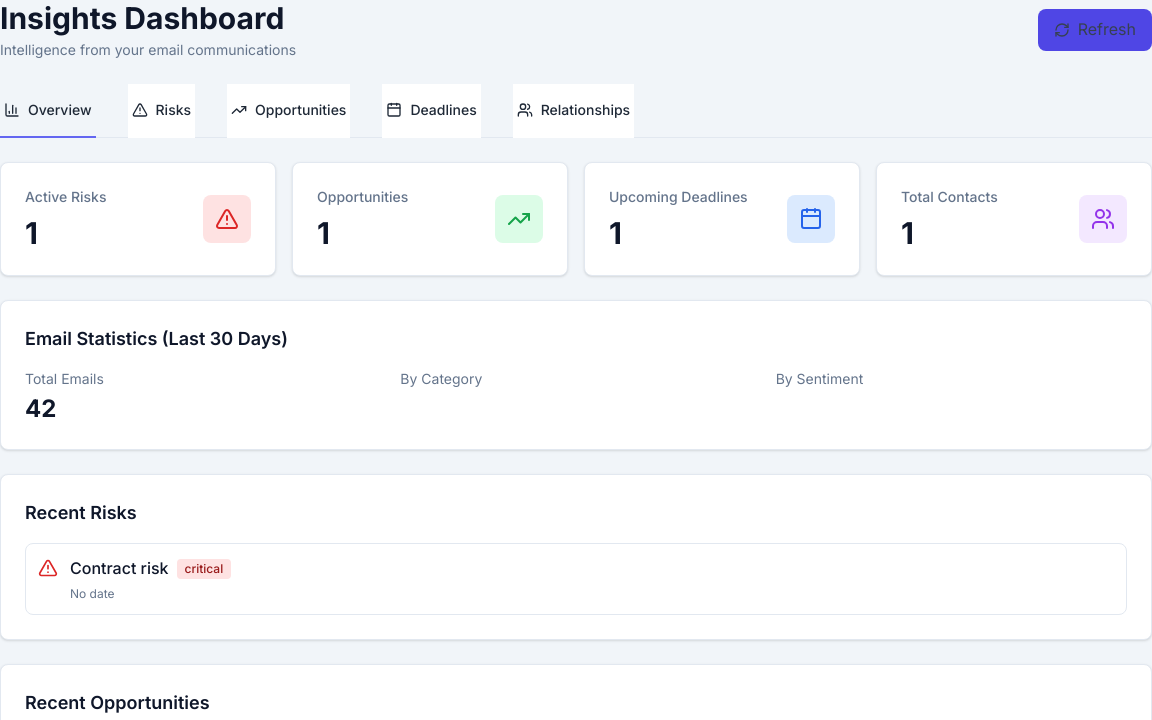
Test: Insights Dashboard › refreshes all data while retaining the selected tab
Expected: the heading "Recent Risks" is shown, [25,502,137,523]
Click the button "Risks".
click(161, 111)  # box [128,84,195,138]
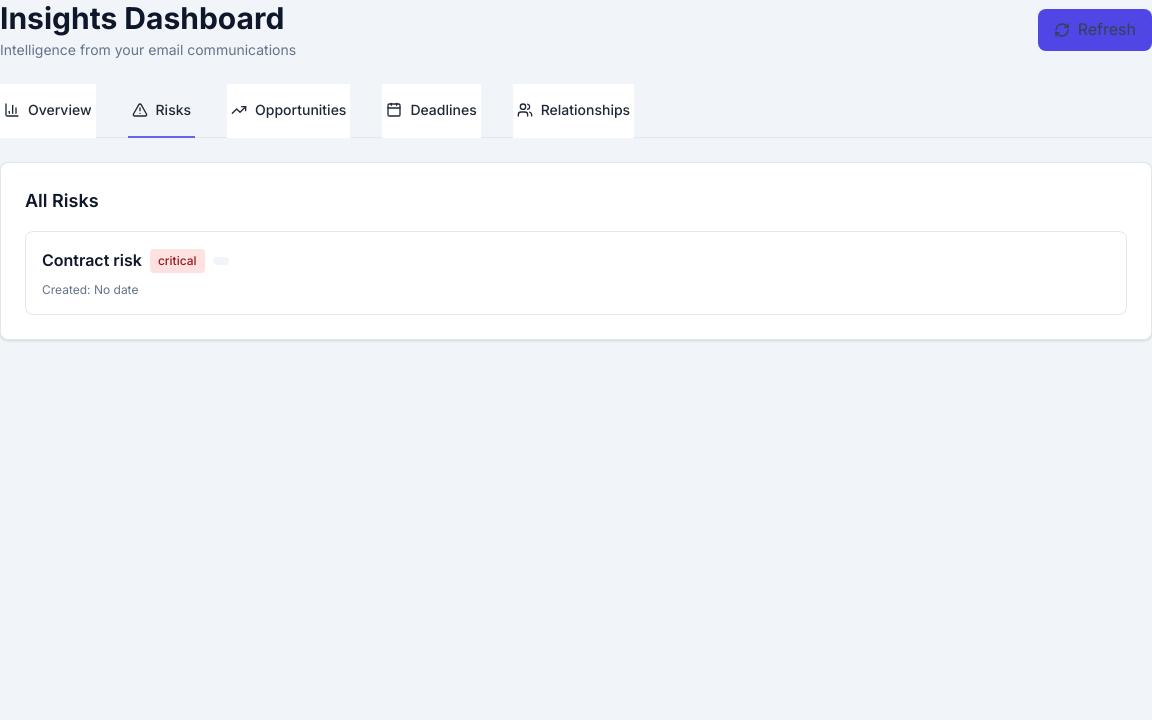
Click the button "Refresh".
click(1095, 30)  # box [1038,9,1151,51]
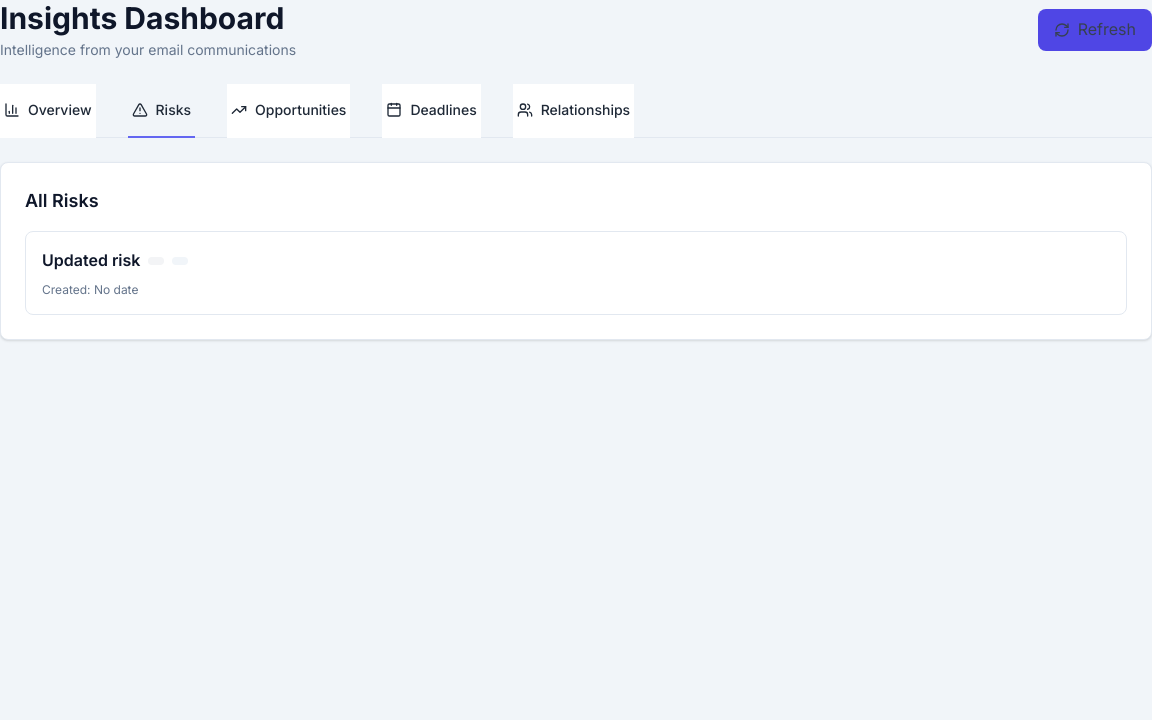
Result: the heading "All Risks" is shown at [25,190,98,211]
Result: the heading "Updated risk" is shown at [42,248,140,274]
Result: the heading "Contract risk" is gone
